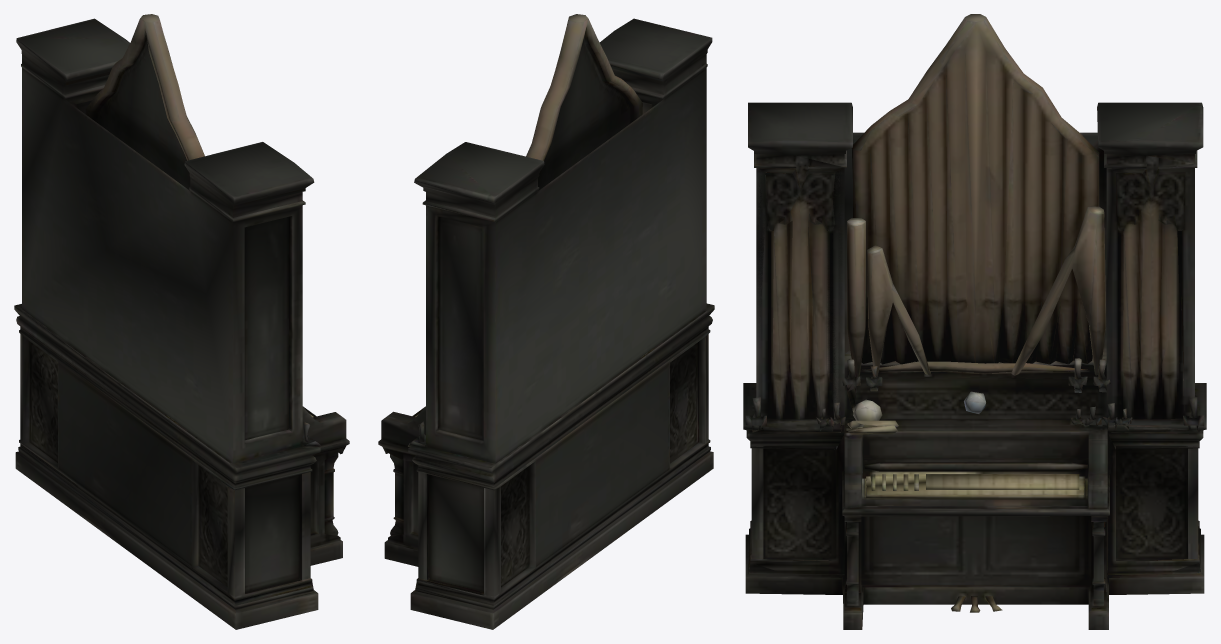
The model's file is organ_pipes.glb.
3 views of the same model, side by side, from view 1: azimuth 30°, elevation 25°; view 2: azimuth 150°, elevation 25°; view 3: azimuth 270°, elevation 25° (orthographic). The views are drawn at different scales.
Visible parts, largest first — view 1: tripo_node_8a98c2ba-f619-4279-88be-5841e7fdd4fb; view 2: tripo_node_8a98c2ba-f619-4279-88be-5841e7fdd4fb; view 3: tripo_node_8a98c2ba-f619-4279-88be-5841e7fdd4fb.
Boxes of the visible parts, bbox=[...] form: tripo_node_8a98c2ba-f619-4279-88be-5841e7fdd4fb: bbox=[14, 14, 349, 629]; tripo_node_8a98c2ba-f619-4279-88be-5841e7fdd4fb: bbox=[378, 14, 714, 629]; tripo_node_8a98c2ba-f619-4279-88be-5841e7fdd4fb: bbox=[743, 14, 1206, 629].
Size of the model in its own units: 0.3184 by 0.998 by 0.7677.
Materials: 1 (1 with a texture image).
